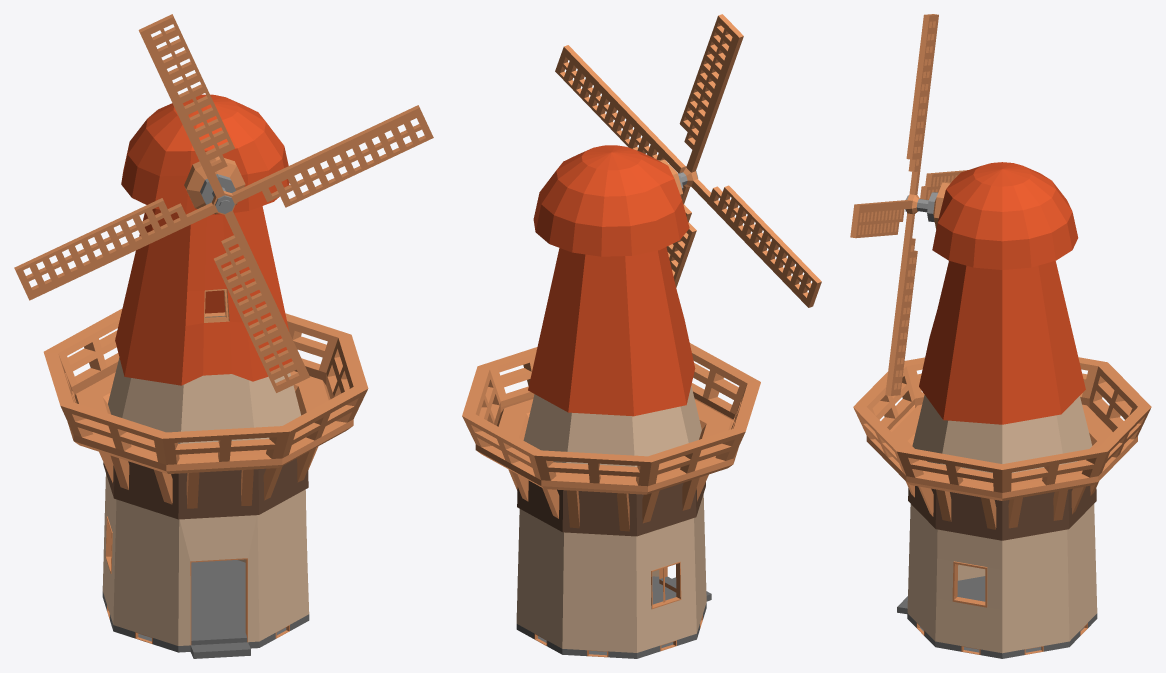
Rendered from Windmill.fbx.
3 views of the same model, side by side, from view 1: azimuth 30°, elevation 25°; view 2: azimuth 150°, elevation 25°; view 3: azimuth 270°, elevation 25° (orthographic). The views are drawn at different scales.
Visible parts, largest first — view 1: Windmill; view 2: Windmill; view 3: Windmill.
Part boxes in pixels (x1,y1,x2,y2): Windmill: [14, 14, 433, 658]; Windmill: [462, 14, 821, 658]; Windmill: [850, 14, 1151, 658].
Bounding box in the file's own units: 1151 × 1991 × 953.
